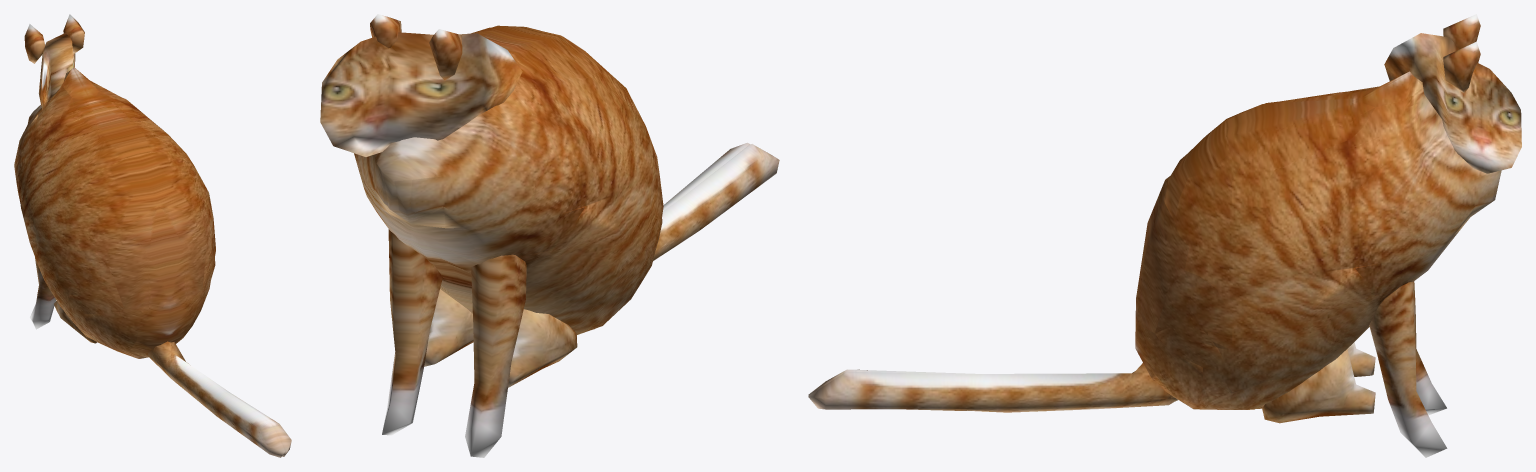
File: cat_ginger_hi.glb
3 views of the same model, side by side, from view 1: azimuth 30°, elevation 25°; view 2: azimuth 150°, elevation 25°; view 3: azimuth 270°, elevation 25° (orthographic). The views are drawn at different scales.
Visible parts, largest first — view 1: cat_ginger_hi; view 2: cat_ginger_hi; view 3: cat_ginger_hi.
Boxes of the visible parts, x1,y1,x2,y2 form: cat_ginger_hi: [14, 14, 291, 457]; cat_ginger_hi: [320, 14, 779, 457]; cat_ginger_hi: [808, 14, 1521, 457].
Bounding box in the file's own units: 0.1839 × 0.3079 × 0.4855.
1 material, 1 textured.
